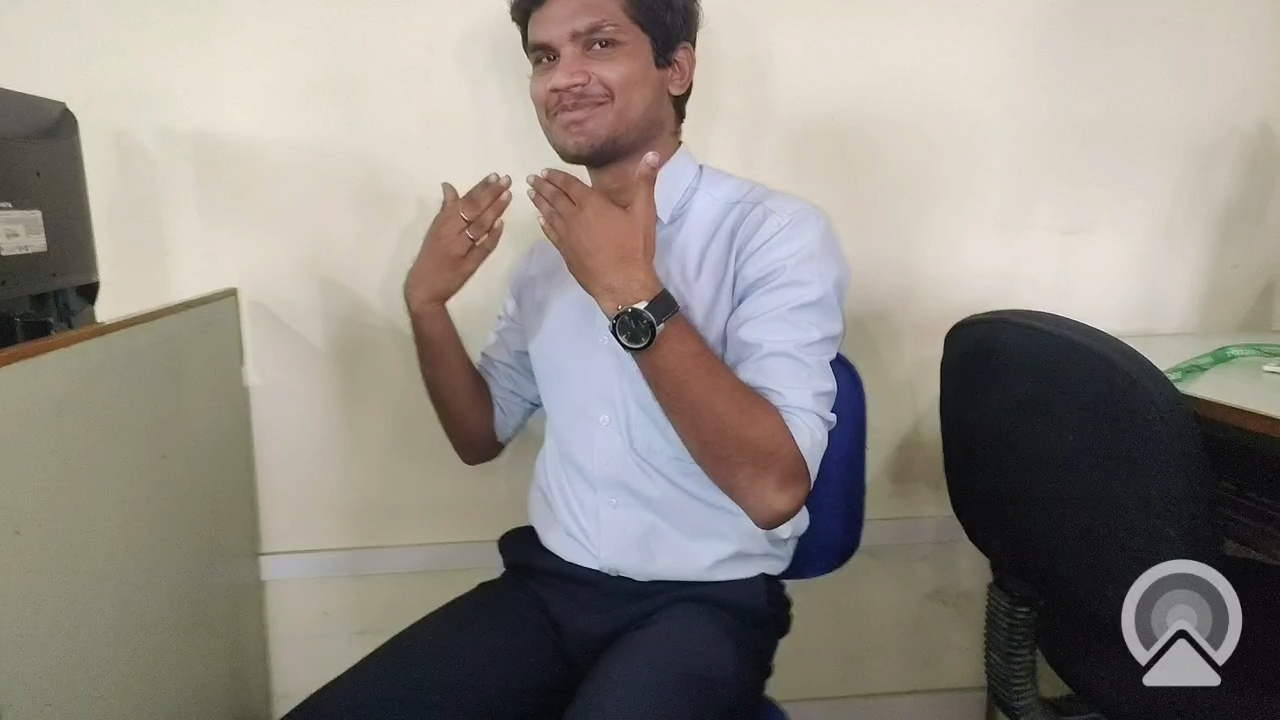Thank you: (370, 132, 786, 516)
